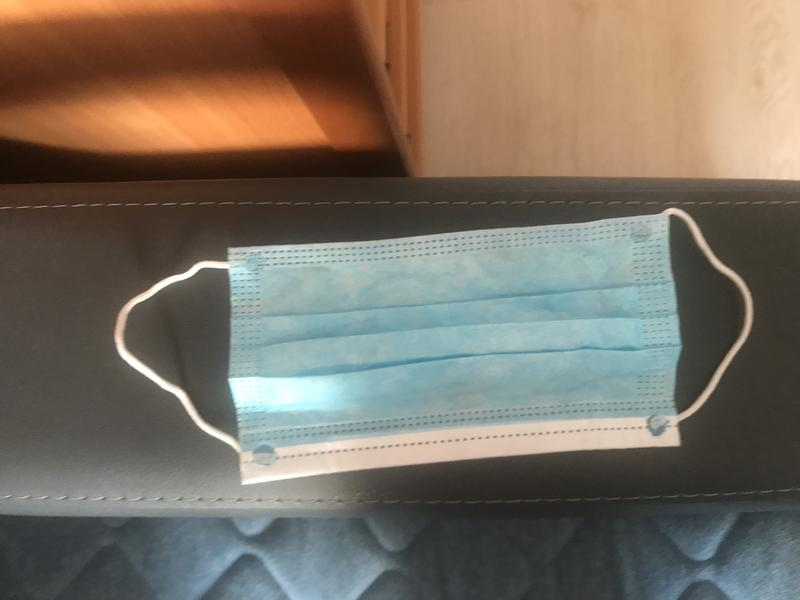medical_mask: (114, 206, 753, 486)
